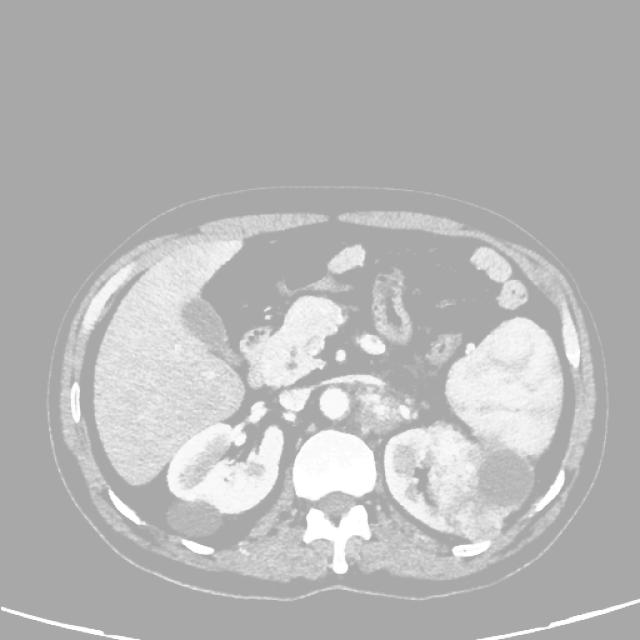TUMOR: (118, 230, 591, 566)
